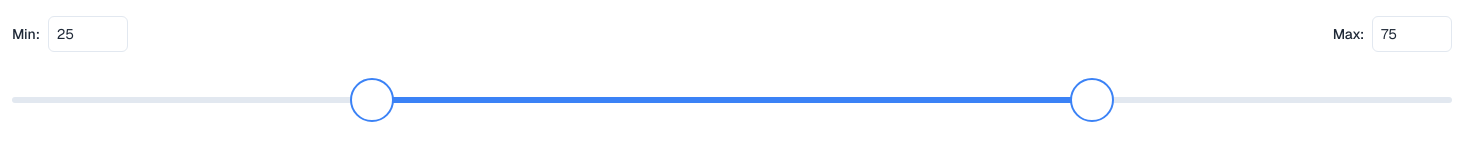
Test case: Range Component - Comprehensive Tests › Input Field Editing (Continuous Mode) › should handle invalid input gracefully
This screenshot has width=1464, height=160.
Replace the text in the number field named "Minimum value" with "abc": (88, 34) [48,16,128,52]
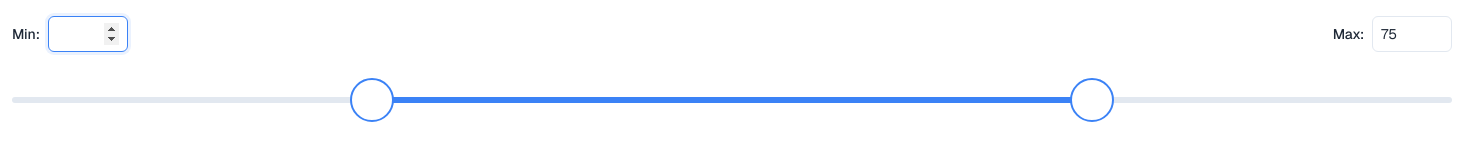
Leave the number field named "Minimum value", box [48,16,128,52]
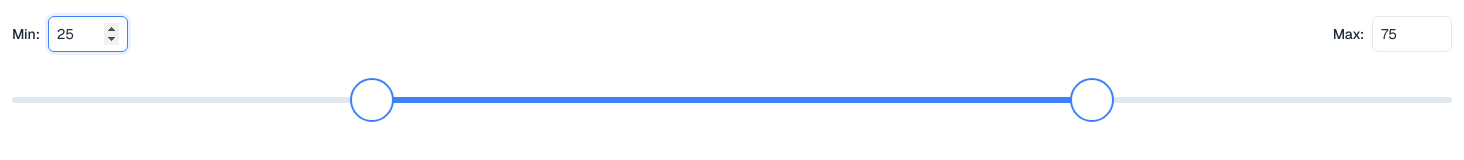
Expected: the number field named "Minimum value" holds "25", [48,16,128,52]
